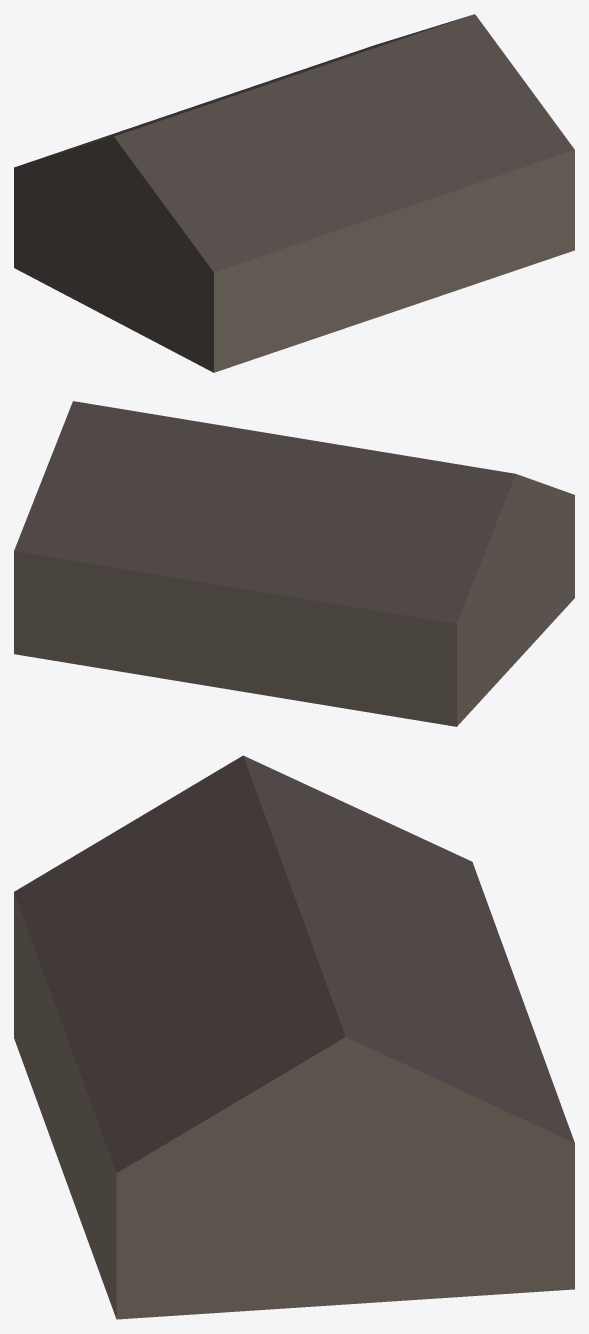
The picture shows the model from 3 angles, top to bottom: view 1: azimuth 30°, elevation 25°; view 2: azimuth 150°, elevation 25°; view 3: azimuth 270°, elevation 25°; orthographic projection. The views are drawn at different scales.
Parts seen in each view (by area): view 1: HP-w858807471; view 2: HP-w858807471; view 3: HP-w858807471.
Boxes of the visible parts, x1,y1,x2,y2 form: HP-w858807471: (14,14,574,372); HP-w858807471: (14,401,574,726); HP-w858807471: (14,755,574,1319).
Size of the model in its own units: 13.71 by 5.49 by 10.43.
